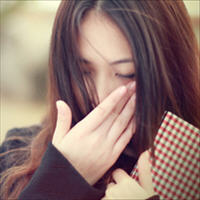face: (63, 11, 154, 141)
